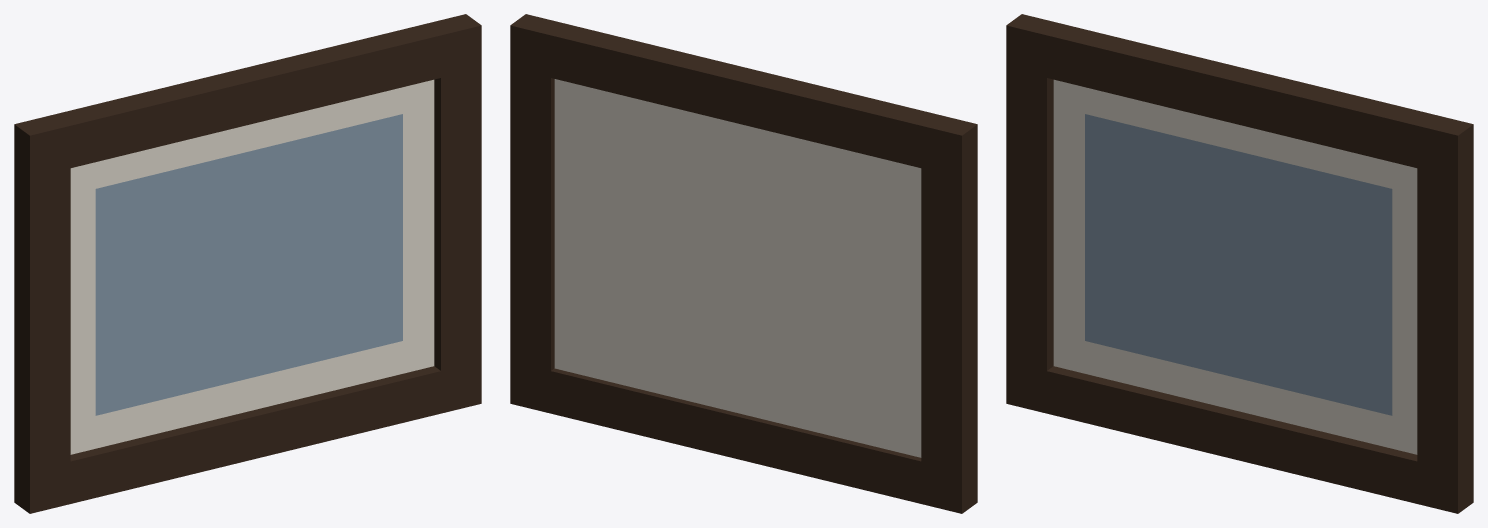
The model's file is picture_frame.glb.
The picture shows the model from 3 angles, left to right: view 1: azimuth 30°, elevation 25°; view 2: azimuth 150°, elevation 25°; view 3: azimuth 330°, elevation 25°; orthographic projection.
Parts seen in each view (by area): view 1: Frame, Picture, Mount; view 2: Mount, Frame; view 3: Frame, Picture, Mount.
Boxes of the visible parts, <box> form: Frame: <box>14,14,481,513</box>; Picture: <box>95,114,402,415</box>; Mount: <box>70,79,434,454</box>; Mount: <box>554,79,921,457</box>; Frame: <box>510,14,977,513</box>; Frame: <box>1006,14,1473,513</box>; Picture: <box>1085,114,1392,415</box>; Mount: <box>1053,79,1417,454</box>.
Bounding box in the file's own units: 0.5 × 0.4 × 0.03.
